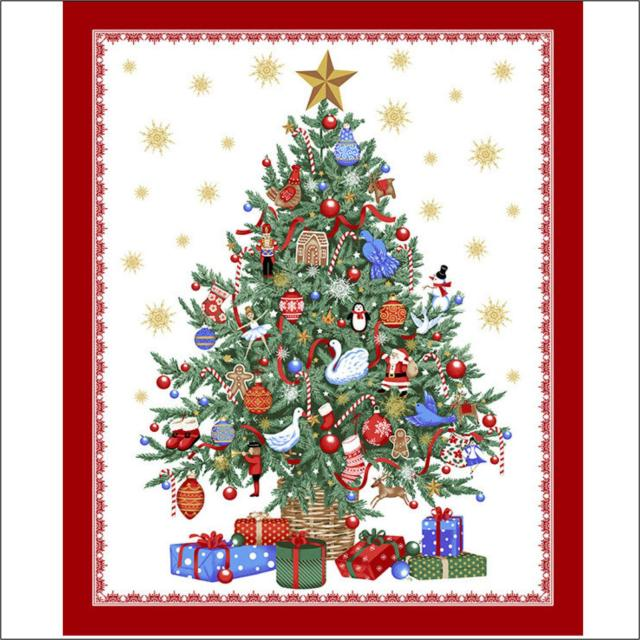Christmas-tree: (130, 50, 532, 503)
